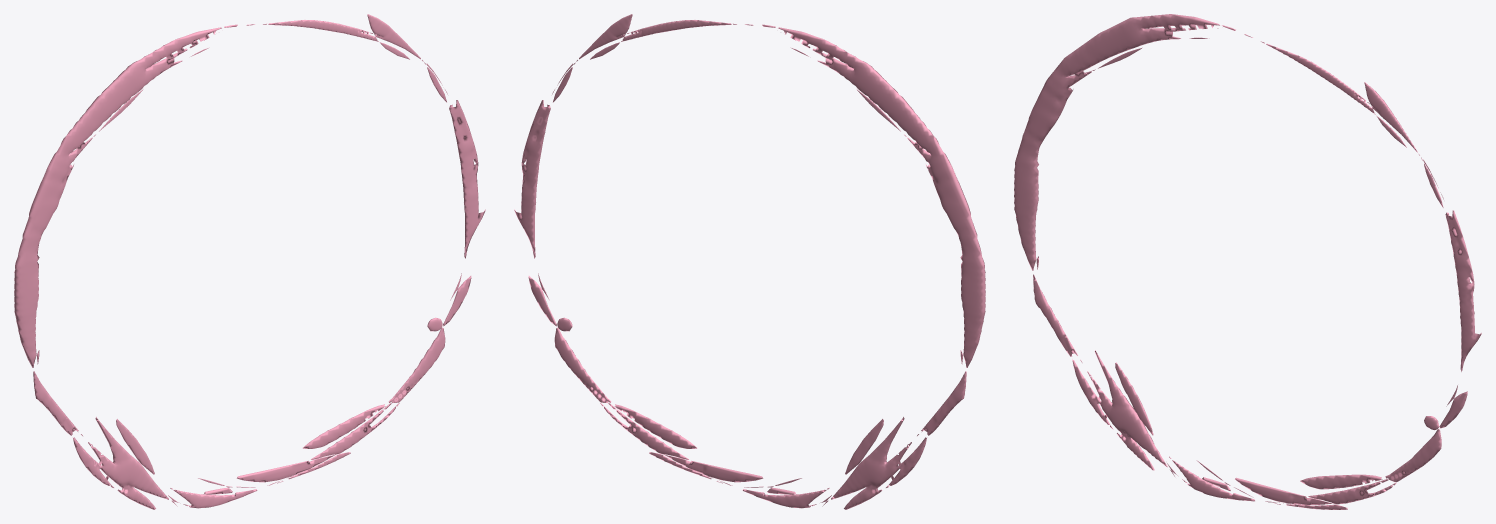
File: Disc_4.fbx
3 views of the same model, side by side, from view 1: azimuth 30°, elevation 25°; view 2: azimuth 150°, elevation 25°; view 3: azimuth 330°, elevation 25° (orthographic).
Visible parts, largest first — view 1: root; view 2: root; view 3: root.
Part boxes in pixels (left/top/right/bottom): root: left=14, top=14, right=485, bottom=509; root: left=514, top=14, right=985, bottom=509; root: left=1014, top=14, right=1481, bottom=509.
Bounding box in the file's own units: 0.3575 × 0.347 × 0.00935.
